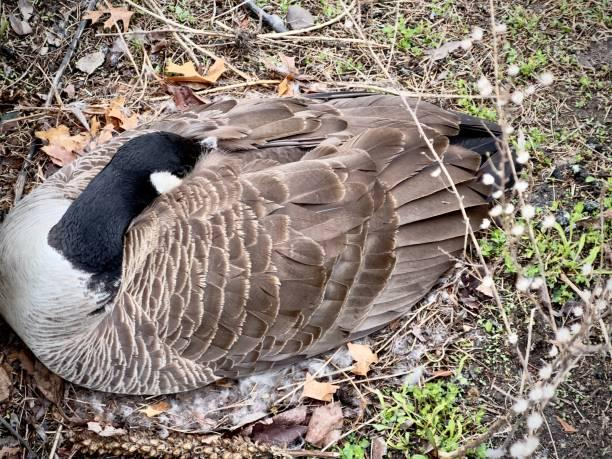Canadian-Goose: (0, 92, 501, 399)
